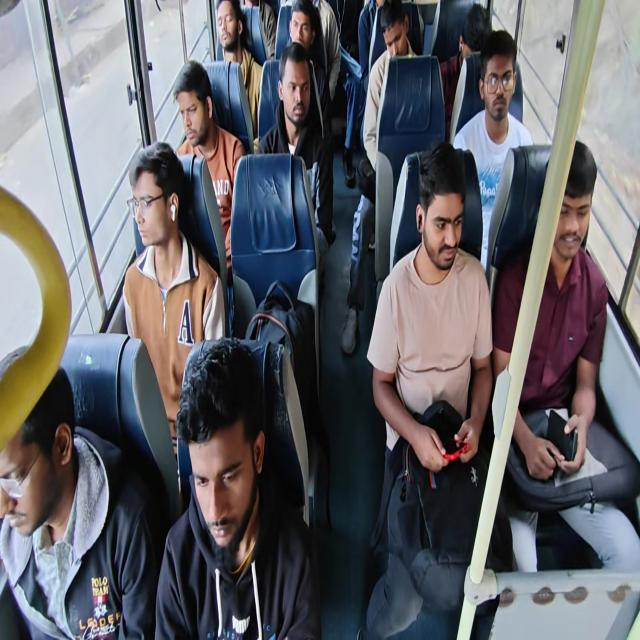person: (1, 1, 638, 638), (364, 140, 513, 638), (492, 139, 639, 574), (154, 336, 321, 638), (0, 362, 157, 639), (122, 140, 227, 510), (340, 1, 419, 354), (452, 29, 534, 271), (256, 41, 333, 268), (172, 60, 245, 274), (439, 3, 492, 139), (214, 0, 262, 142), (287, 0, 329, 114), (357, 0, 387, 95), (240, 0, 278, 61)
